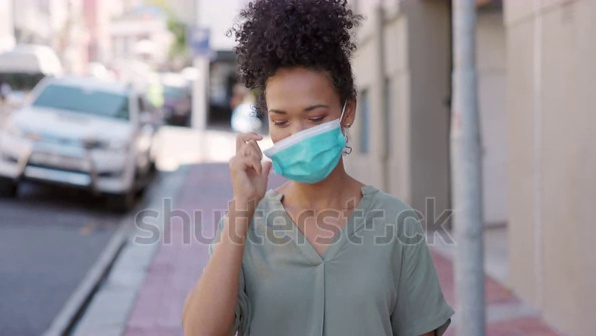Mask: (254, 117, 354, 188)
